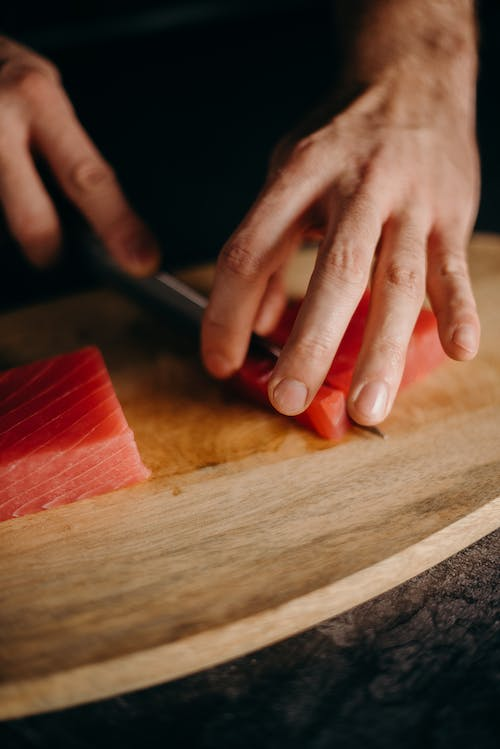knife: (155, 273, 390, 443)
